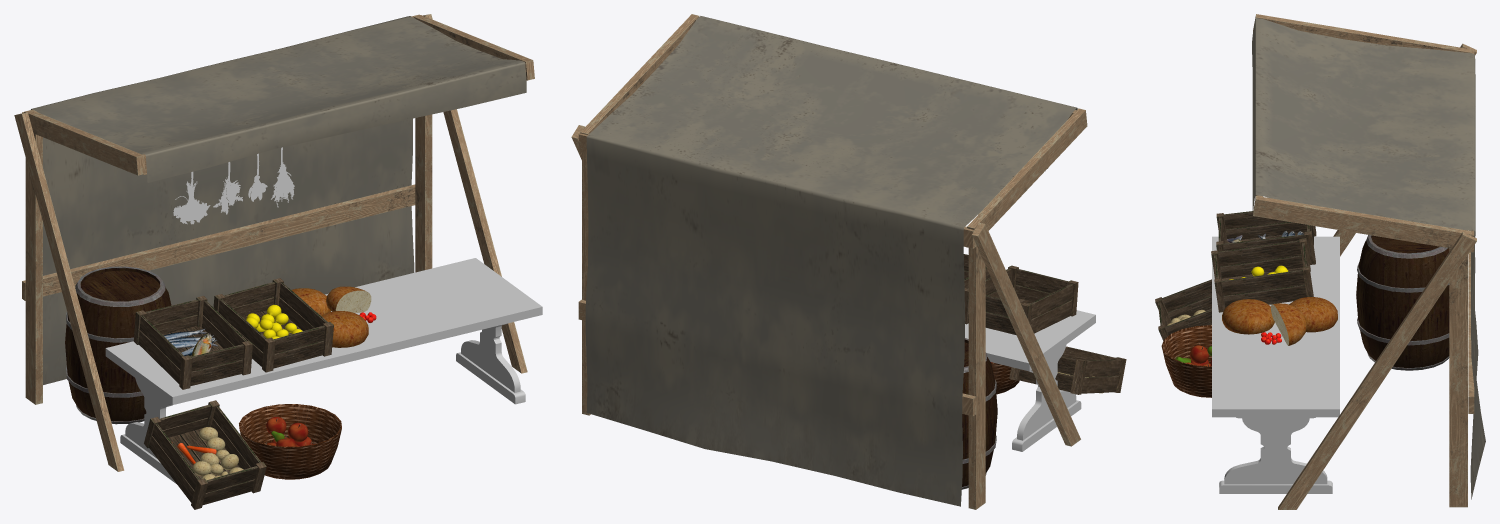
The model's file is altroMercato.fbx.
3 renders of one model, left to right at view 1: azimuth 30°, elevation 25°; view 2: azimuth 150°, elevation 25°; view 3: azimuth 270°, elevation 25°, orthographic. The views are drawn at different scales.
Parts seen in each view (by area): view 1: Plane, stand, table, barrel, box.002, box, box.001, basket.001, herbs, bread full, bread half; view 2: Plane, stand, table, box, box.002, barrel; view 3: Plane, stand, table, barrel, box.001, box, basket.001, box.002, bread full, bread full.001, bread half.
Part boxes in pixels (<box>): Plane: <box>31,16,526,384</box>; stand: <box>14,14,534,471</box>; table: <box>105,258,542,483</box>; barrel: <box>65,266,171,424</box>; box.002: <box>144,400,266,509</box>; box: <box>133,296,252,389</box>; box.001: <box>213,278,333,372</box>; basket.001: <box>239,404,341,479</box>; herbs: <box>173,147,294,224</box>; bread full: <box>321,311,368,347</box>; bread half: <box>326,286,371,312</box>; Plane: <box>585,16,1077,506</box>; stand: <box>571,14,1087,509</box>; table: <box>965,310,1095,451</box>; box: <box>964,265,1078,335</box>; box.002: <box>1009,346,1126,394</box>; barrel: <box>962,338,997,489</box>; Plane: <box>1252,18,1485,499</box>; stand: <box>1253,14,1476,509</box>; table: <box>1212,236,1339,493</box>; barrel: <box>1356,235,1449,370</box>; box.001: <box>1211,238,1313,312</box>; box: <box>1216,211,1316,264</box>; basket.001: <box>1161,325,1211,397</box>; box.002: <box>1155,279,1211,340</box>; bread full: <box>1222,299,1274,334</box>; bread full.001: <box>1289,297,1337,332</box>; bread half: <box>1271,303,1306,345</box>.
Bounding box in the file's own units: 113312 × 85511 × 82865.
